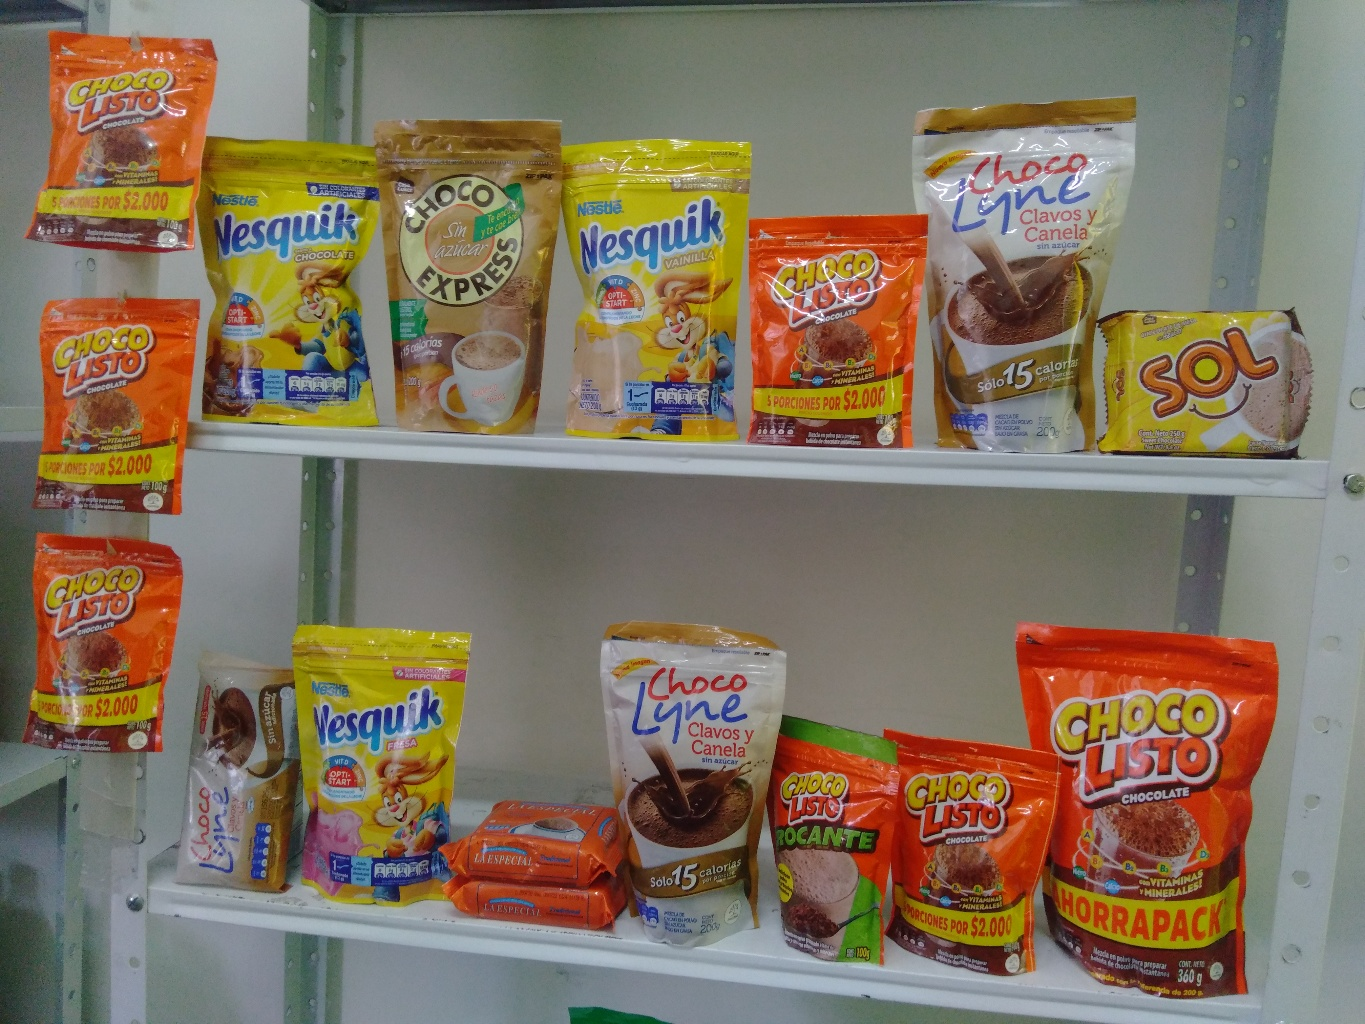COL0170102DYP10000: (756, 715, 904, 972)
COL0170103DYP36000: (1009, 621, 1312, 996)
COL0170303DYP20000: (182, 129, 375, 432)
COL0170305DYP20000: (282, 606, 494, 918)
COL0170306DYP20000: (555, 137, 764, 456)
